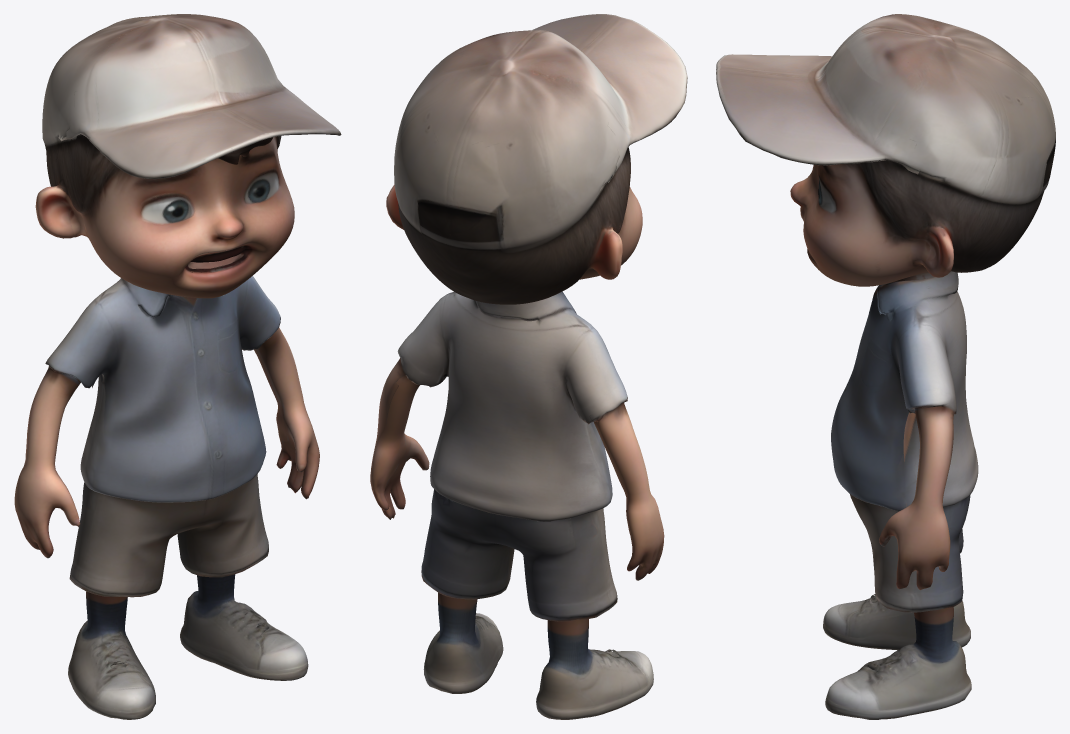
Rendered from Create_a_3D_model_of__0922200238_refine.obj.
3 renders of one model, left to right at view 1: azimuth 30°, elevation 25°; view 2: azimuth 150°, elevation 25°; view 3: azimuth 270°, elevation 25°, orthographic.
Parts seen in each view (by area): view 1: Mesh1_Mesh1.011; view 2: Mesh1_Mesh1.011; view 3: Mesh1_Mesh1.011.
Boxes of the visible parts, x1=… form: Mesh1_Mesh1.011: x1=14, y1=14, x2=341, y2=719; Mesh1_Mesh1.011: x1=370, y1=14, x2=687, y2=719; Mesh1_Mesh1.011: x1=716, y1=14, x2=1055, y2=719.
Bounding box in the file's own units: 0.9287 × 2 × 0.9566.
Materials: 1 (1 with a texture image).
